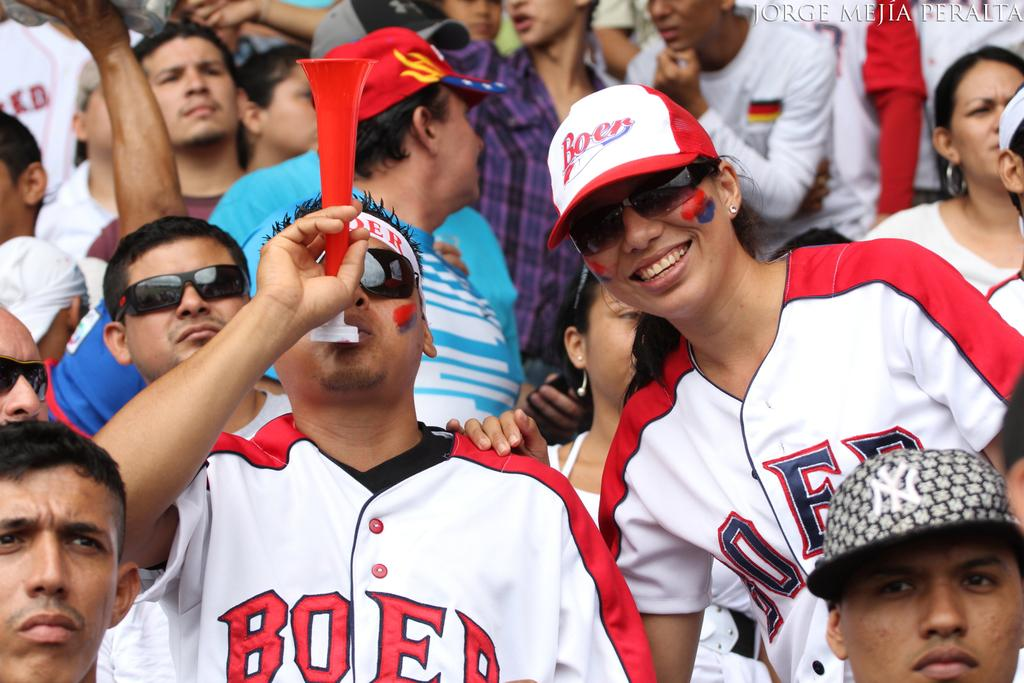Hat: (802, 446, 1024, 602), (548, 84, 724, 253), (320, 26, 504, 120)
